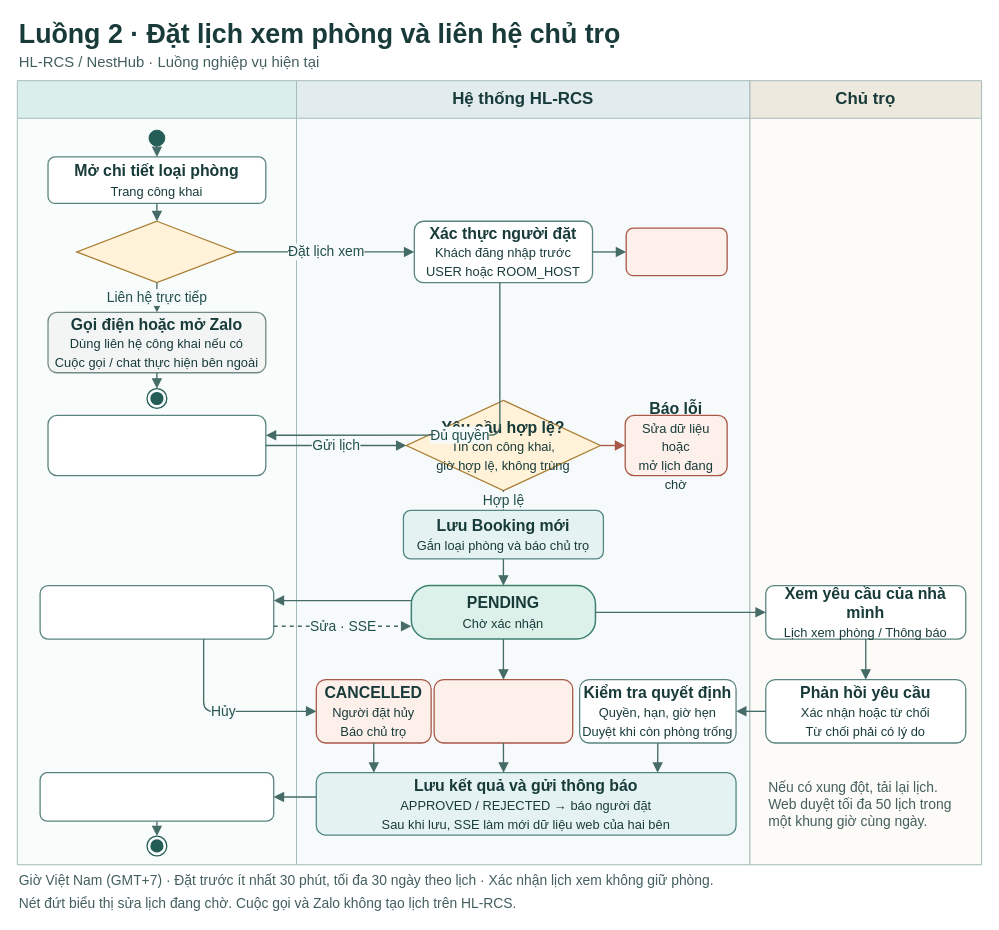
Image size: 999x930. Some labels were removed from this diagram. Each missing label, with the box of its shape:
Báo lỗi quyền Dừng đặt lịch: (625, 227, 727, 276)
CANCELLED Quá hạn ở mốc −15 phút Báo người đặt: (433, 679, 573, 743)
Chọn cách liên hệ: (76, 220, 237, 283)
Người xem phòng: (16, 80, 297, 865)
Nhập thông tin lịch xem Ngày giờ, họ tên, SĐT Ghi chú tùy chọn: (47, 414, 266, 476)
Sửa hoặc hủy lịch của mình Khi còn chờ và còn hơn 15 phút: (39, 584, 274, 639)
Theo dõi trạng thái lịch Web · Lịch xem phòng / Thông báo: (39, 772, 274, 821)
